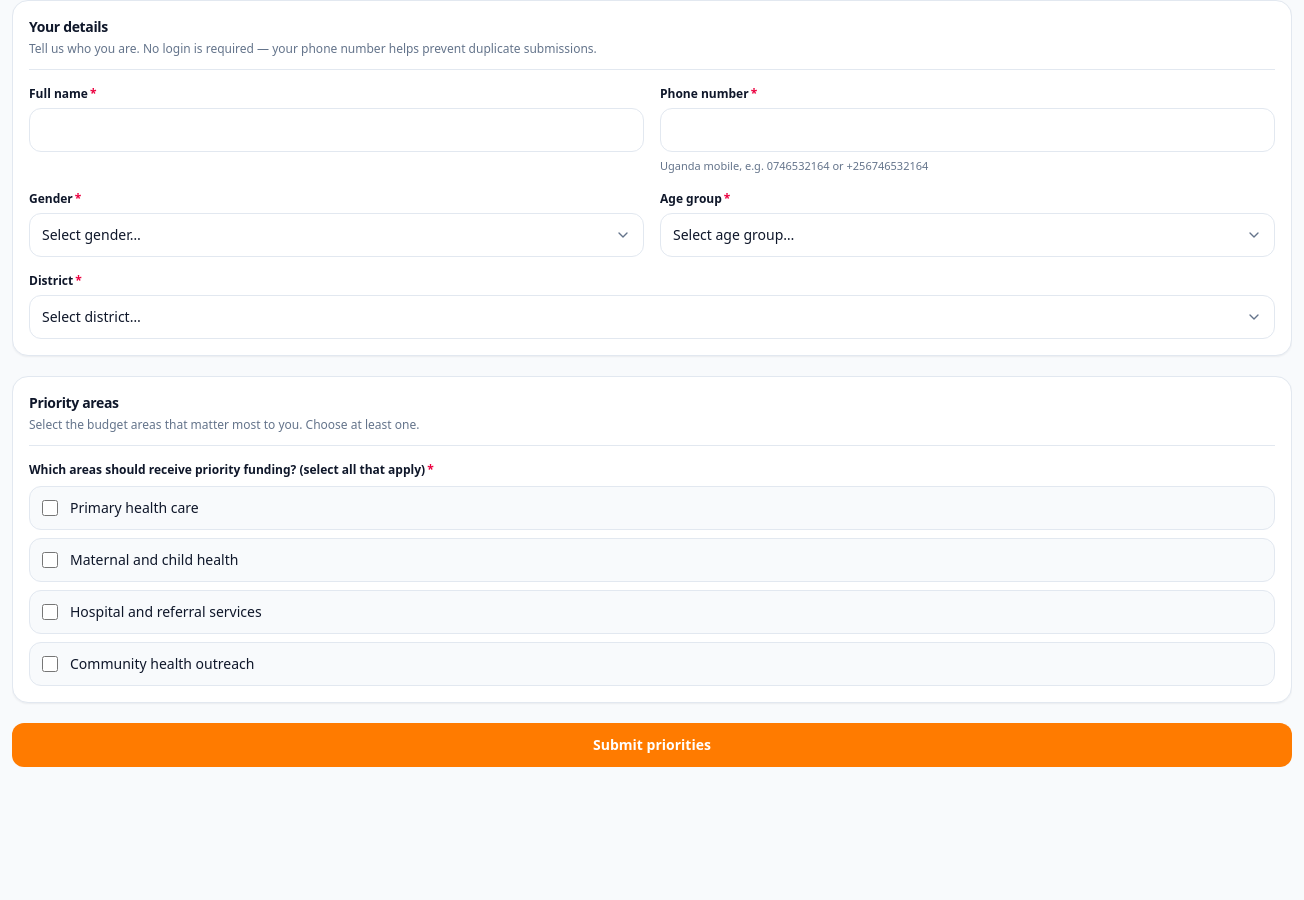
Test case: BudgetPriorityForm › shows an error when submitting without priority areas
Click the button "Submit priorities": (652, 744) [12, 722, 1292, 766]
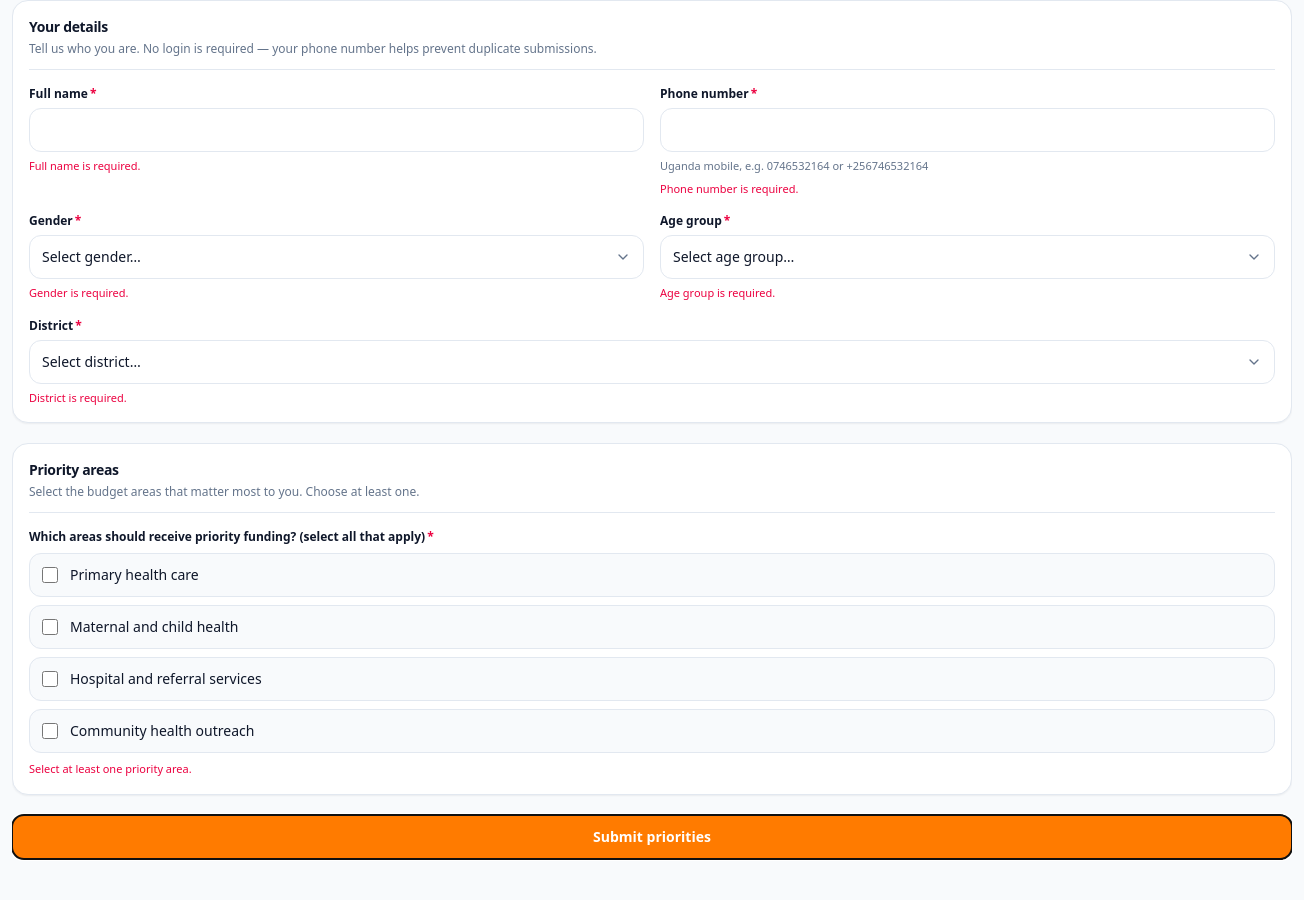
expect the text "Select at least one priority area." is shown: met, box [29, 761, 192, 776]
